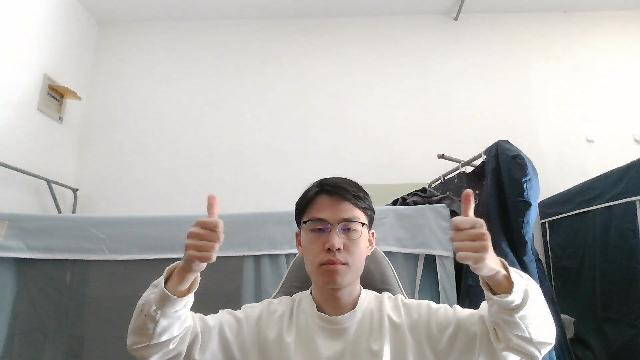good: (446, 185, 501, 280), (180, 192, 225, 276)
